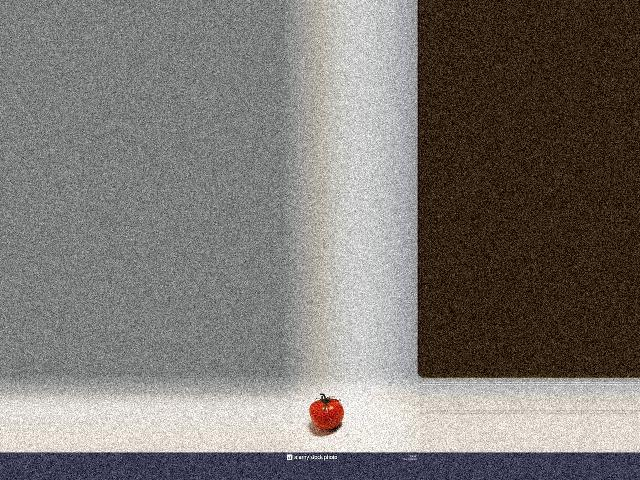tomato: (310, 399, 344, 430)
